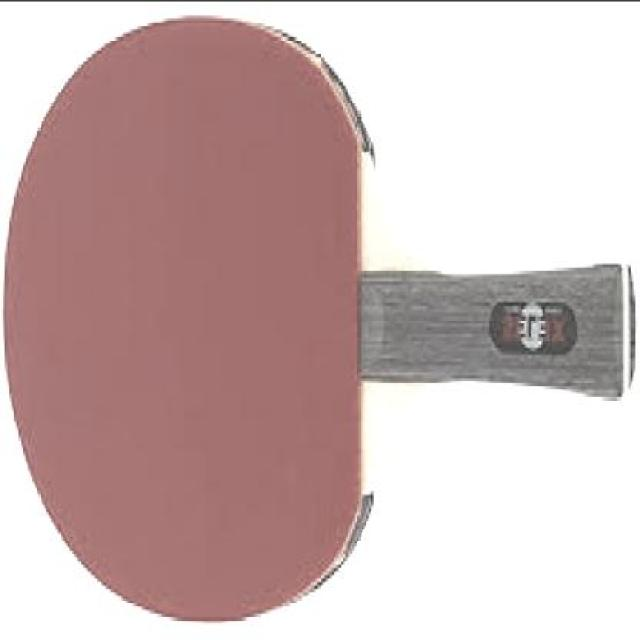table_tennis_racket: (1, 8, 413, 640)
